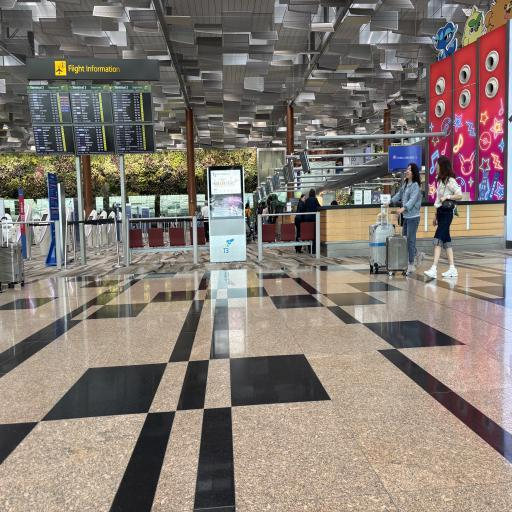person_left: (430, 153, 457, 283)
person_with_luggage_left: (364, 153, 422, 282)
